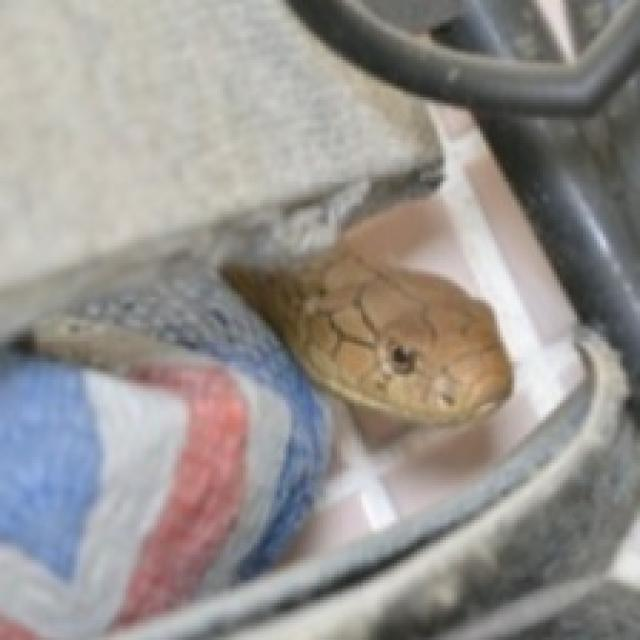king cobra: (223, 240, 509, 423)
